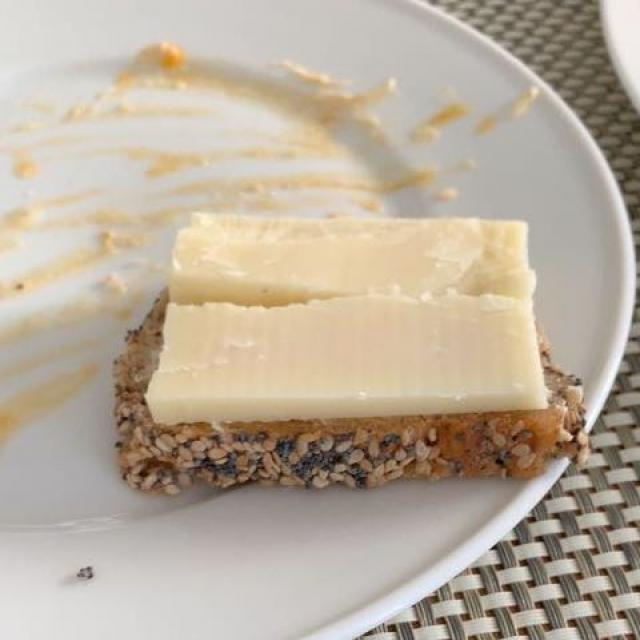bread: (121, 213, 581, 488)
butter: (130, 214, 537, 405)
